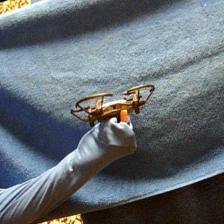drone: (69, 84, 158, 128)
